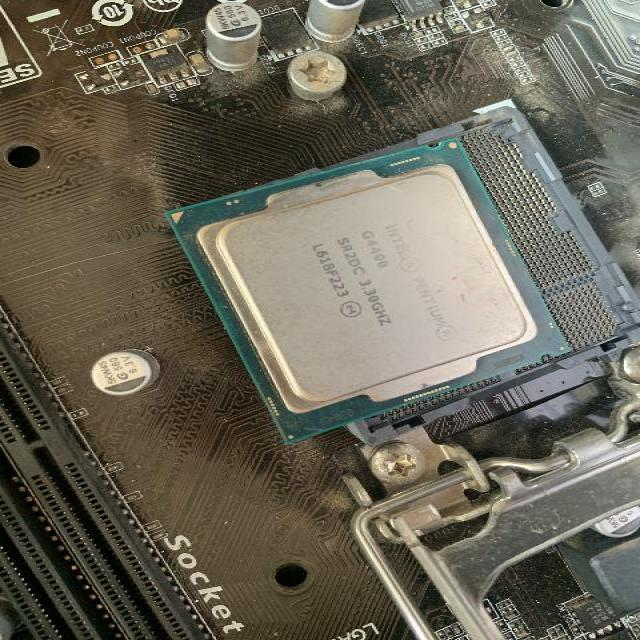CPU: (165, 138, 572, 442)
Mainboard: (2, 1, 640, 639)
